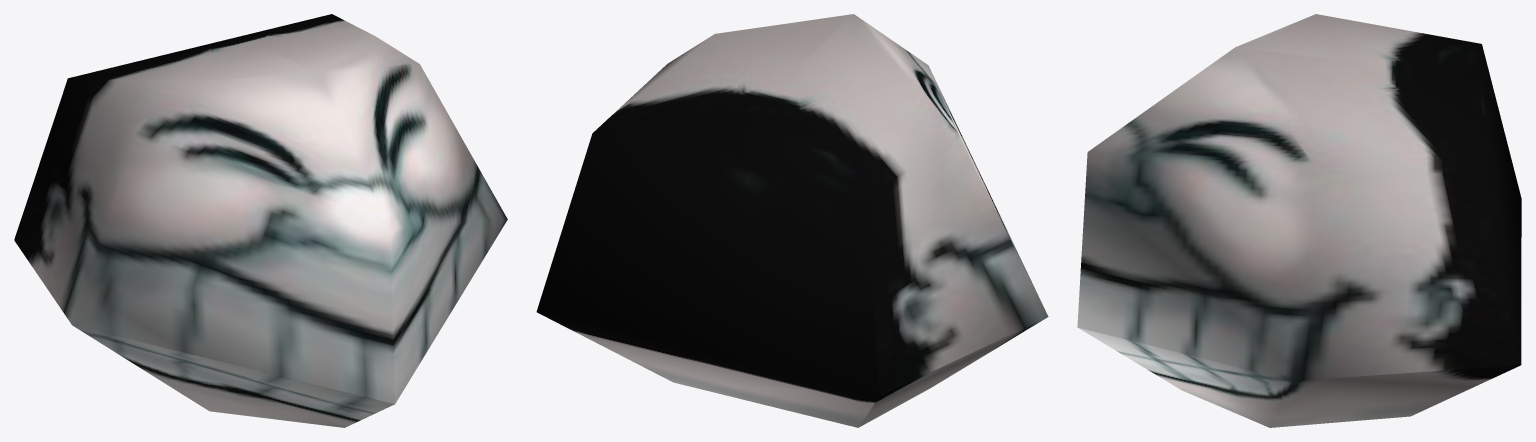
3 renders of one model, left to right at view 1: azimuth 30°, elevation 25°; view 2: azimuth 150°, elevation 25°; view 3: azimuth 270°, elevation 25°, orthographic. The views are drawn at different scales.
Parts seen in each view (by area): view 1: gladhander; view 2: gladhander; view 3: gladhander.
Part boxes in pixels (x1=…): gladhander: x1=14, y1=14, x2=507, y2=427; gladhander: x1=536, y1=14, x2=1048, y2=427; gladhander: x1=1077, y1=14, x2=1521, y2=427.
Size of the model in its own units: 2.16 by 1.59 by 1.86.
1 material, 1 textured.
